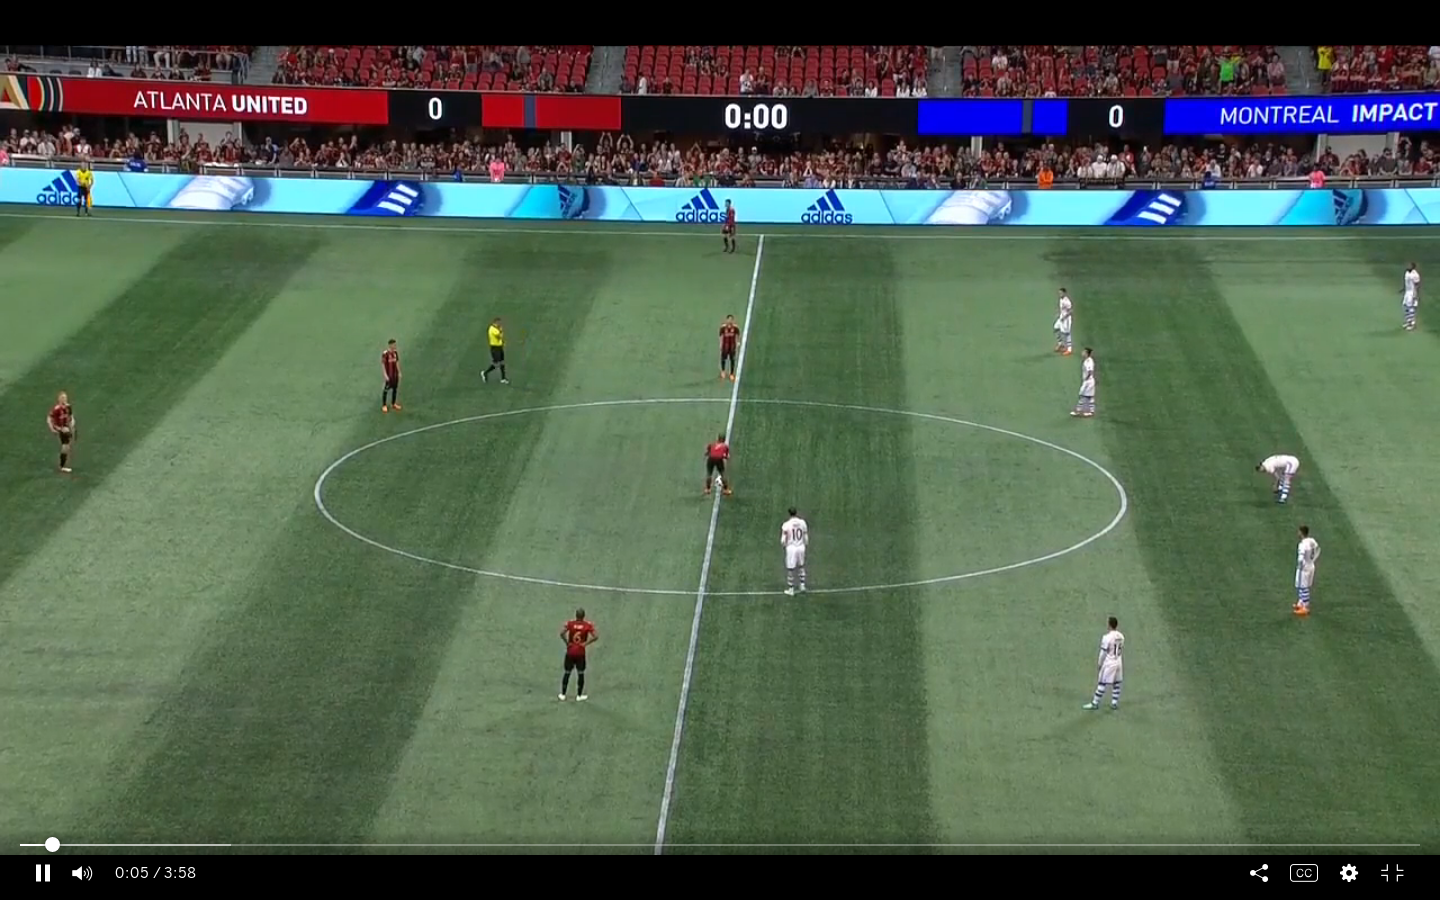referee: (479, 317, 513, 388), (73, 160, 99, 219)
soccer player: (553, 602, 602, 705), (1084, 614, 1133, 711), (775, 502, 819, 597), (1288, 525, 1324, 622), (47, 383, 82, 479), (1253, 446, 1298, 511), (699, 429, 738, 497), (1070, 348, 1102, 425), (378, 334, 410, 412), (1050, 285, 1081, 360), (718, 312, 745, 380), (1401, 257, 1422, 332), (721, 196, 738, 251)
